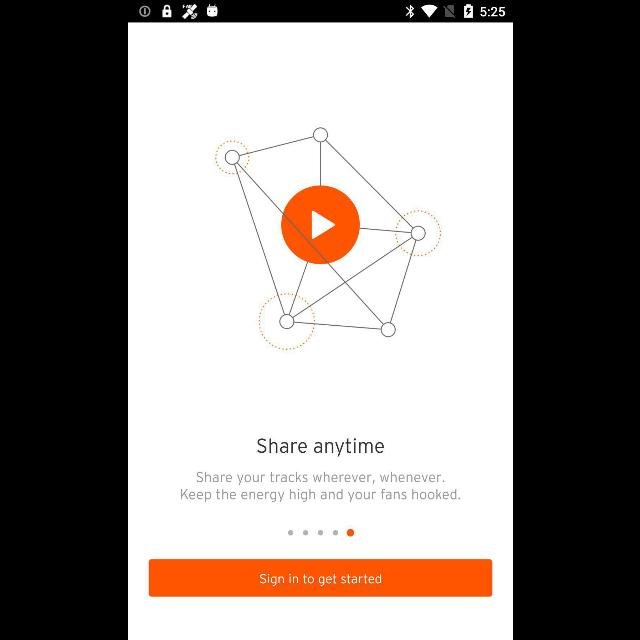image: (214, 127, 441, 351)
pageindicator: (286, 529, 354, 537)
text: (180, 472, 460, 502), (256, 438, 384, 458)
textbutton: (148, 560, 492, 596)
uppertaskbar: (128, 1, 512, 23)
